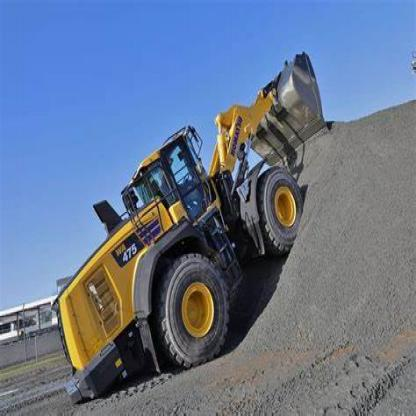bull_dozer/loader/grader: (43, 44, 336, 402)
